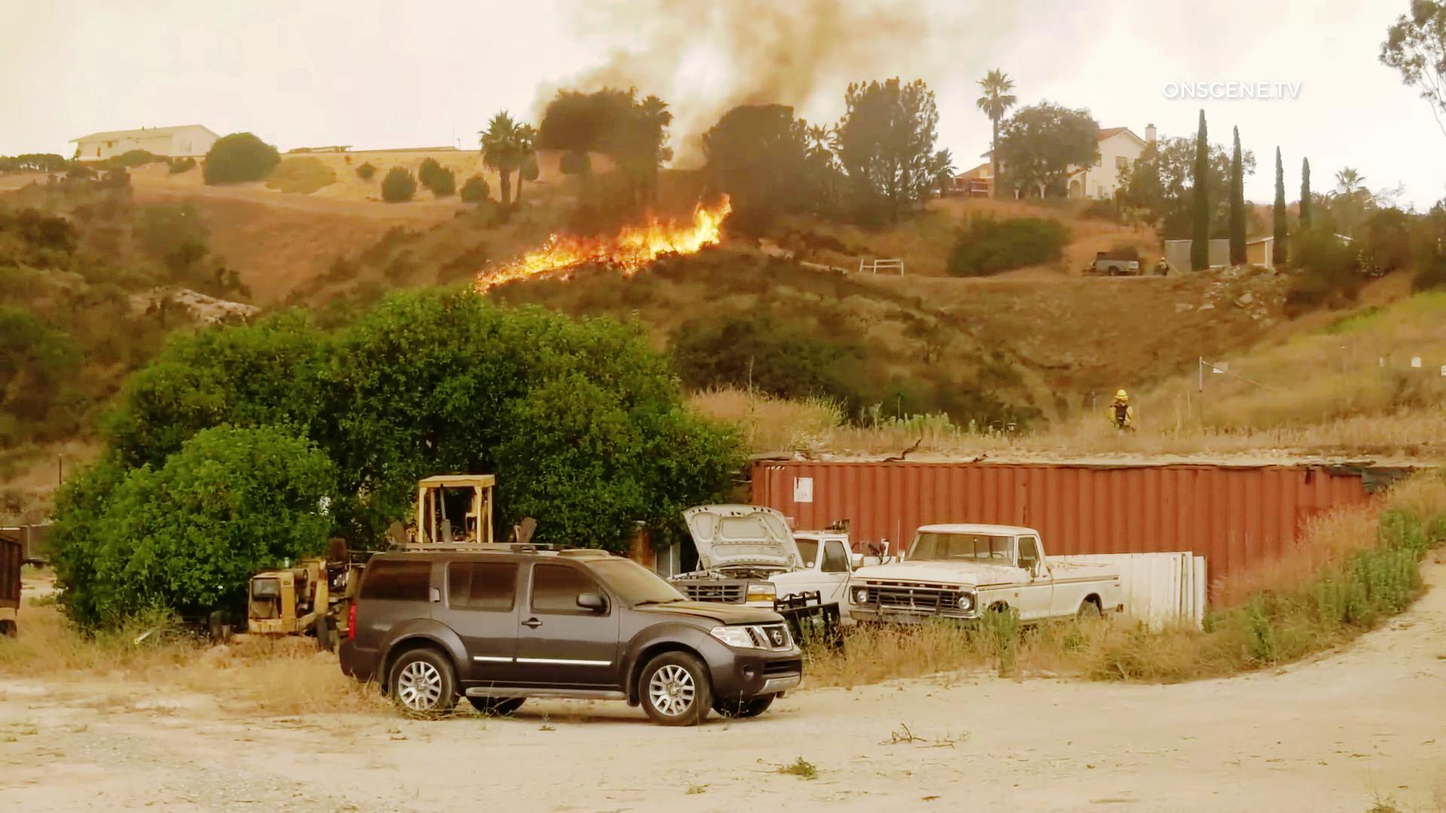fire: (471, 190, 740, 291)
smoke: (561, 0, 894, 109)
